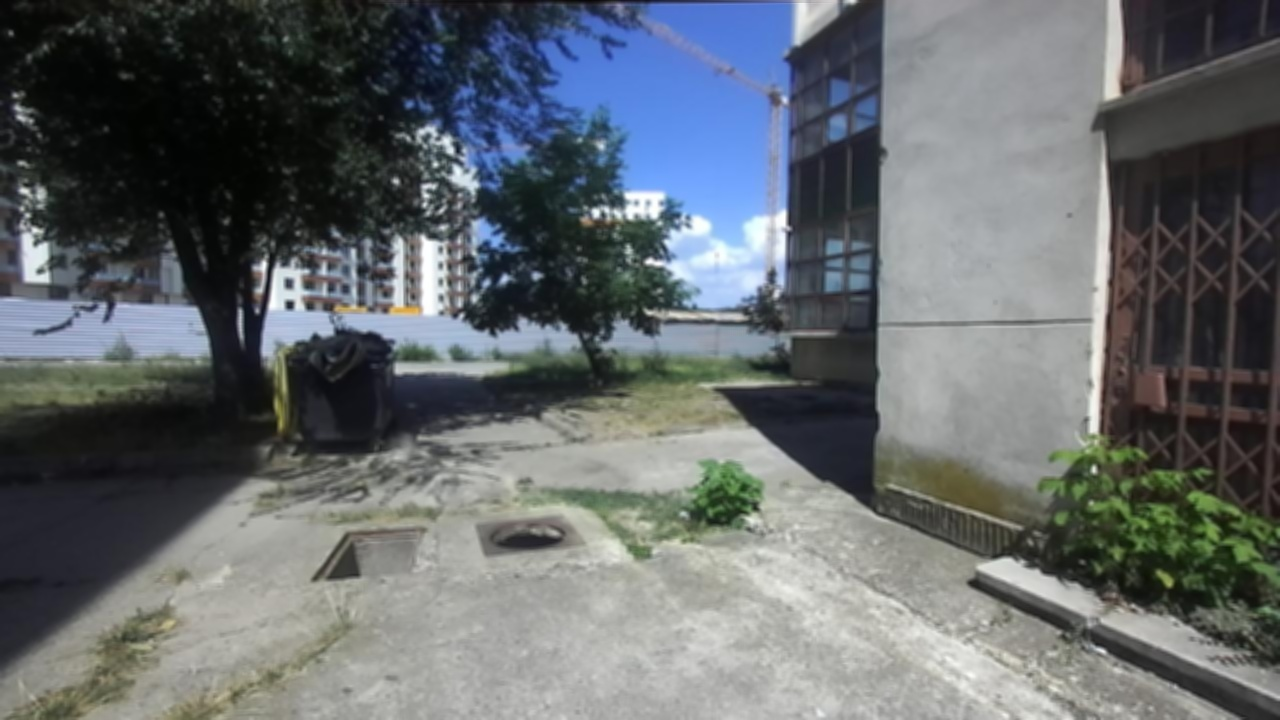drain: (307, 521, 428, 587), (484, 517, 572, 553)
